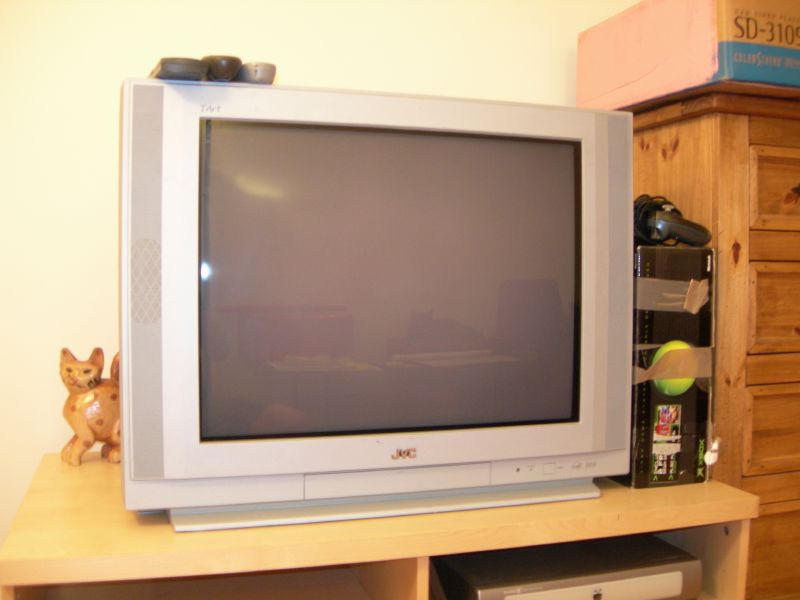tv monitor: (122, 73, 635, 499)
